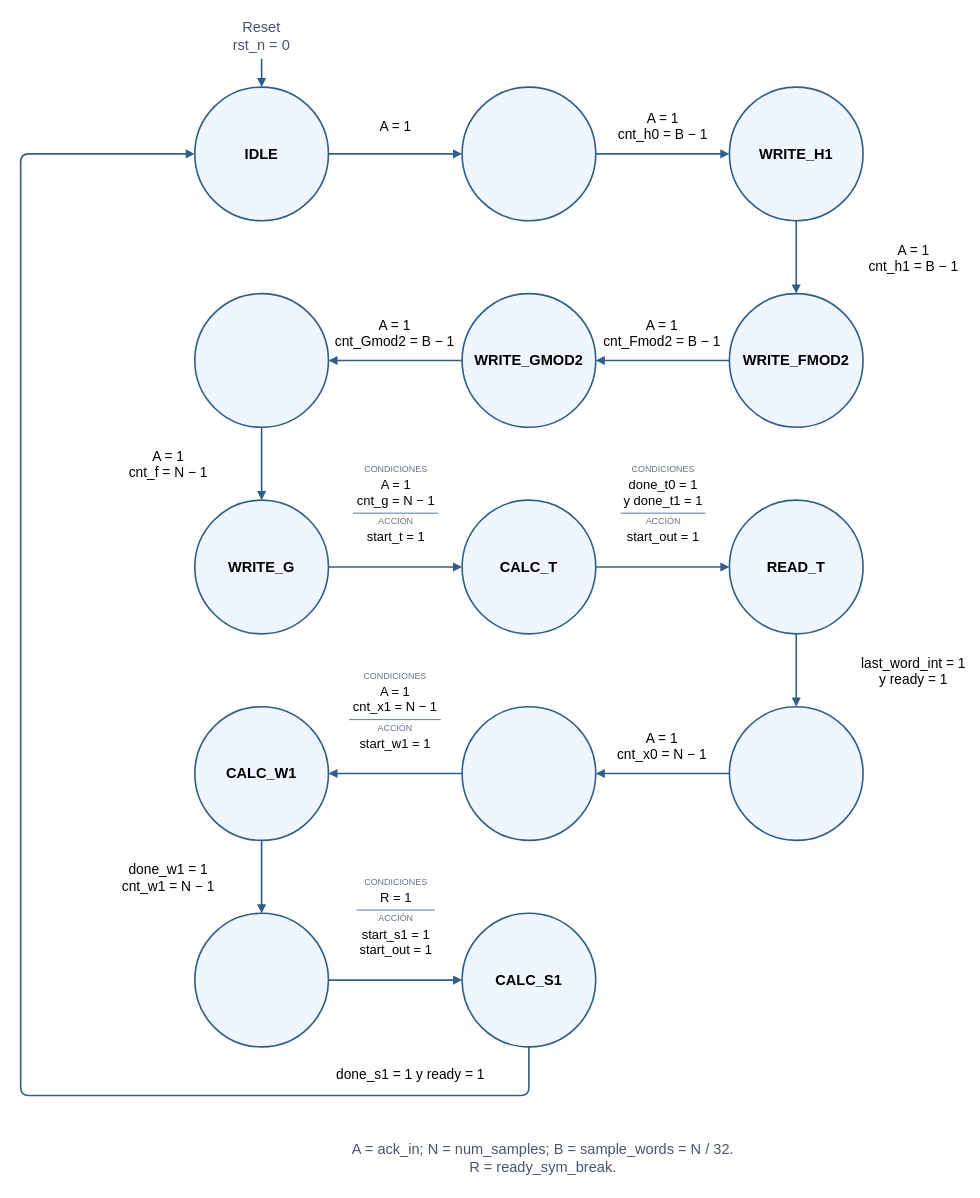
This 980x1198 diagram has some shape labels left out. Here are the shapes that lost their labels. From the top down, the centre of each, then its label:
At point (528, 153): "WRITE_H0".
At point (261, 360): "WRITE_F".
At point (528, 773): "WRITE_X1".
At point (795, 773): "WRITE_X0".
At point (261, 979): "CALC_SYM_ BREAK".
